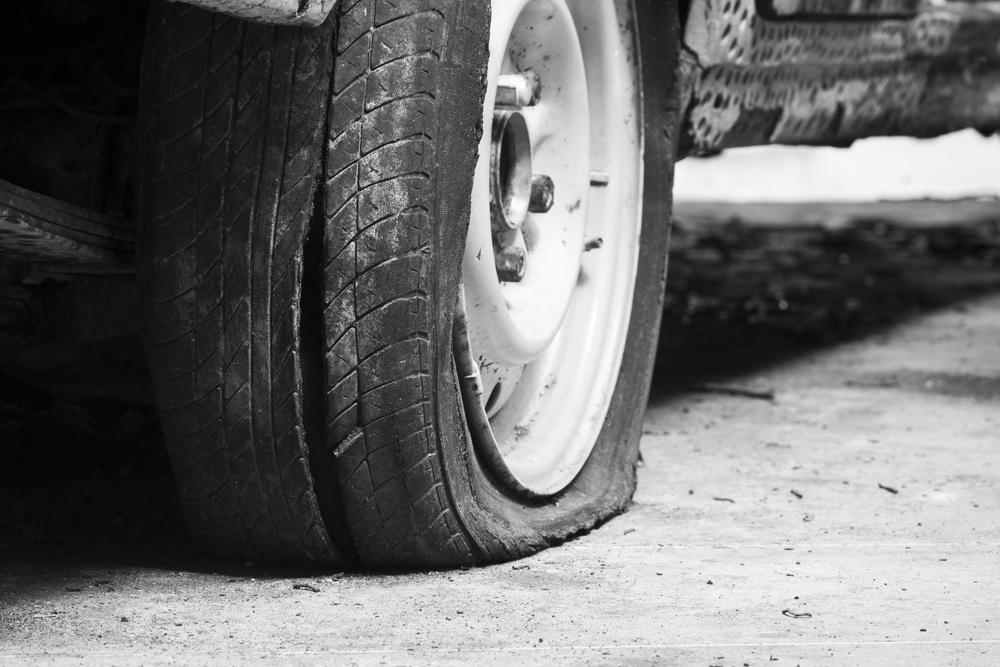tire flat: (138, 0, 678, 572)
